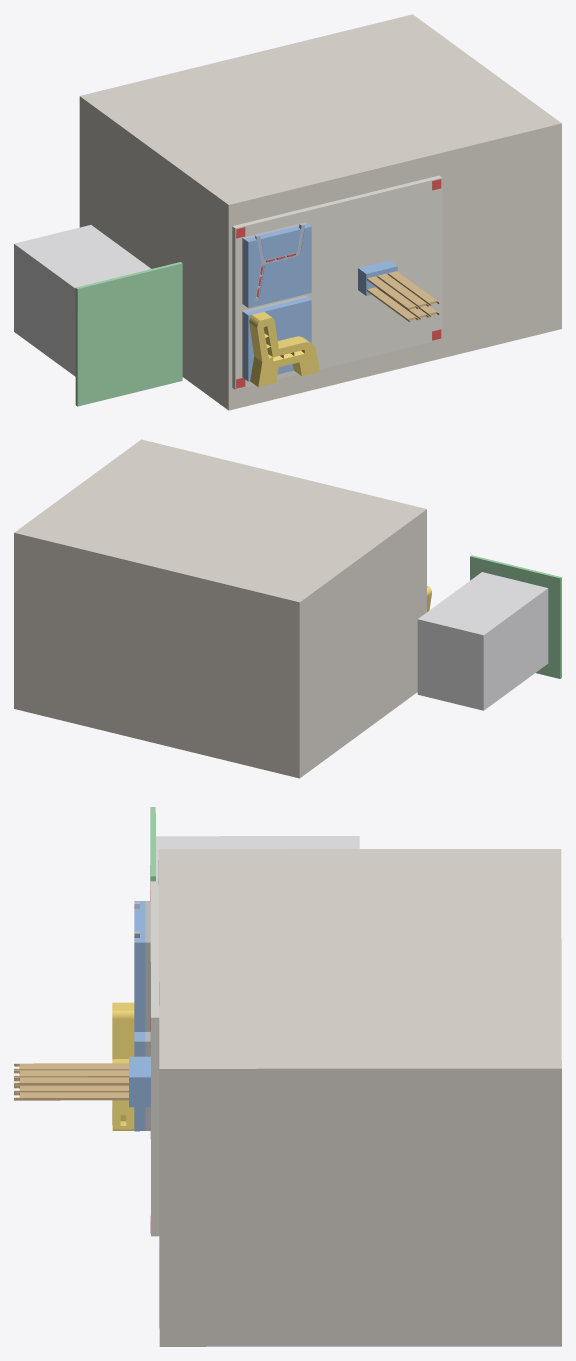
File: cell_v3.glb
The picture shows the model from 3 angles, top to bottom: view 1: azimuth 30°, elevation 25°; view 2: azimuth 150°, elevation 25°; view 3: azimuth 270°, elevation 25°; orthographic projection. The views are drawn at different scales.
Parts seen in each view (by area): view 1: Table, Ground base plate, AMR plate, AMR top module, Base A, Guide, Base B, Plank jig, frame1; view 2: Table, AMR top module, AMR plate; view 3: Table, Ground base plate, AMR top module, Guide, Base A, Plank jig, plank1, plank4, plank2, plank3, plank5, Base A riser.
Part boxes in pixels (x1,y1,x2,y2): Table: [79, 14, 561, 410]; Ground base plate: [232, 175, 442, 389]; AMR plate: [75, 262, 182, 406]; AMR top module: [14, 225, 150, 376]; Base A: [244, 224, 311, 308]; Guide: [249, 312, 319, 387]; Base B: [244, 297, 311, 381]; Plank jig: [358, 260, 397, 295]; frame1: [254, 223, 304, 300]; Table: [14, 439, 426, 778]; AMR top module: [417, 572, 548, 710]; AMR plate: [470, 555, 561, 678]; Table: [158, 849, 561, 1346]; Ground base plate: [150, 881, 159, 1236]; AMR top module: [156, 836, 359, 881]; Guide: [112, 1002, 134, 1130]; Base A: [134, 901, 145, 1031]; Plank jig: [129, 1056, 150, 1107]; plank1: [14, 1077, 128, 1085]; plank4: [14, 1092, 128, 1100]; plank2: [14, 1070, 128, 1077]; plank3: [14, 1063, 128, 1070]; plank5: [14, 1085, 128, 1092]; Base A riser: [145, 901, 150, 1031].
Bounding box in the file's own units: 1390 × 561 × 1001.
